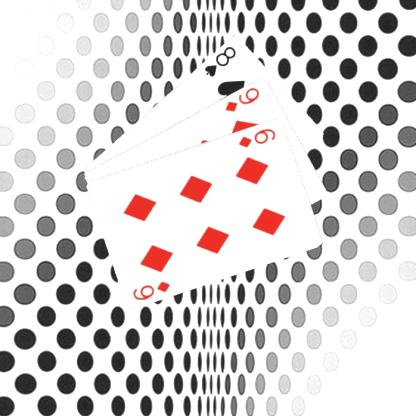6D: (130, 278, 172, 302), (236, 125, 277, 149)
8S: (201, 43, 237, 78)
9D: (222, 84, 261, 113)
